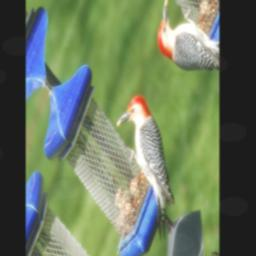Woodpecker: (97, 80, 197, 251)
